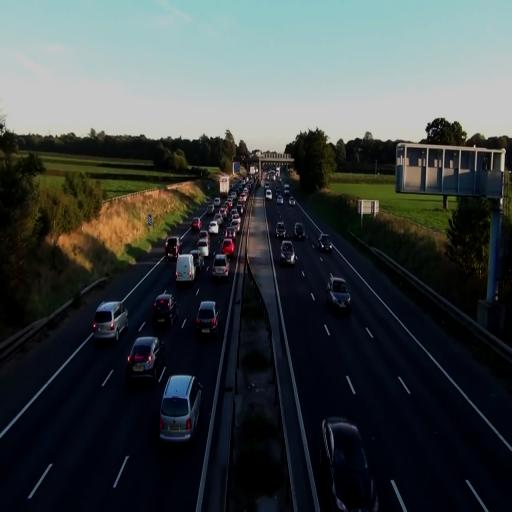vehicle: (320, 416, 378, 512), (158, 374, 204, 447), (126, 336, 166, 388), (92, 300, 128, 345), (326, 276, 352, 315), (195, 300, 219, 339), (152, 291, 177, 328), (175, 254, 196, 286), (211, 253, 230, 282), (279, 239, 296, 266), (318, 234, 332, 252), (276, 219, 286, 239), (294, 222, 304, 240), (322, 236, 332, 253)
